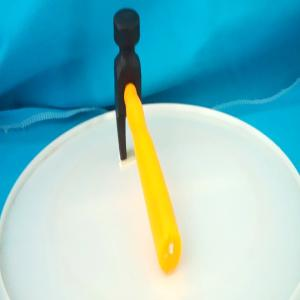martelo: (113, 7, 182, 275)
